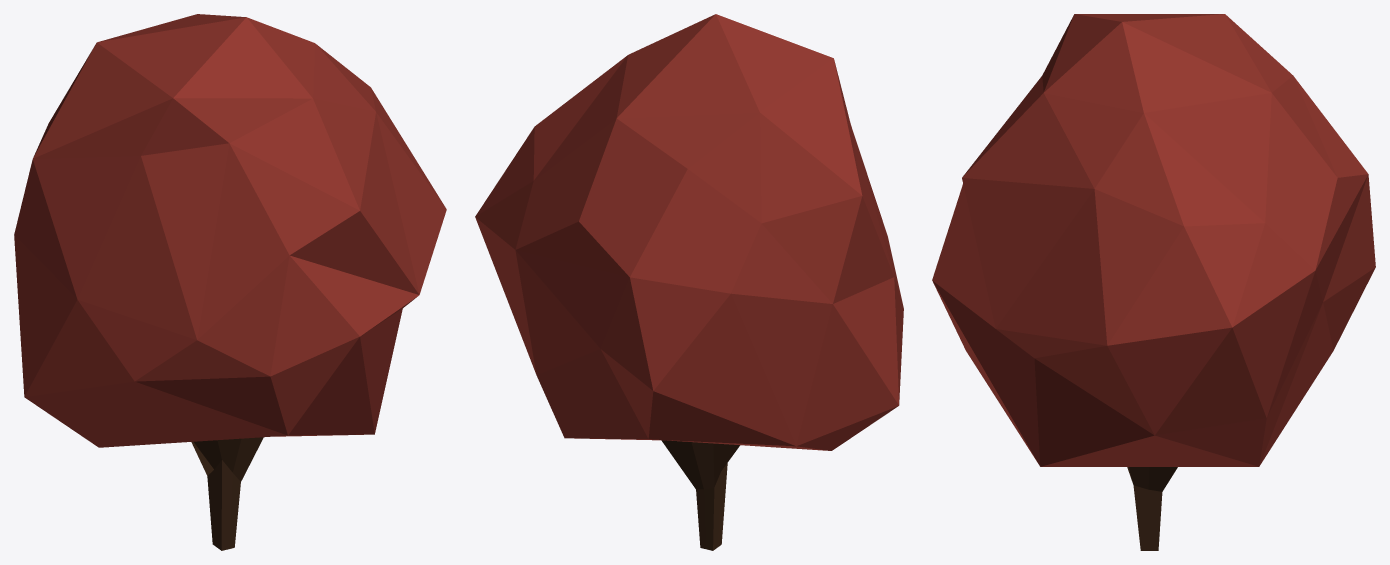
The model's file is Tree_21_Red.fbx.
3 renders of one model, left to right at view 1: azimuth 30°, elevation 25°; view 2: azimuth 150°, elevation 25°; view 3: azimuth 270°, elevation 25°, orthographic. The views are drawn at different scales.
Parts seen in each view (by area): view 1: Tree_21_Red_Part_1, Tree_21_Red_Part_2; view 2: Tree_21_Red_Part_1, Tree_21_Red_Part_2; view 3: Tree_21_Red_Part_1, Tree_21_Red_Part_2.
Boxes of the visible parts, x1=… form: Tree_21_Red_Part_1: x1=14, y1=14, x2=446, y2=447; Tree_21_Red_Part_2: x1=191, y1=437, x2=263, y2=550; Tree_21_Red_Part_1: x1=475, y1=14, x2=903, y2=450; Tree_21_Red_Part_2: x1=661, y1=440, x2=739, y2=550; Tree_21_Red_Part_1: x1=932, y1=14, x2=1375, y2=466; Tree_21_Red_Part_2: x1=1127, y1=467, x2=1177, y2=550.
Size of the model in its own units: 616 by 793 by 601.
